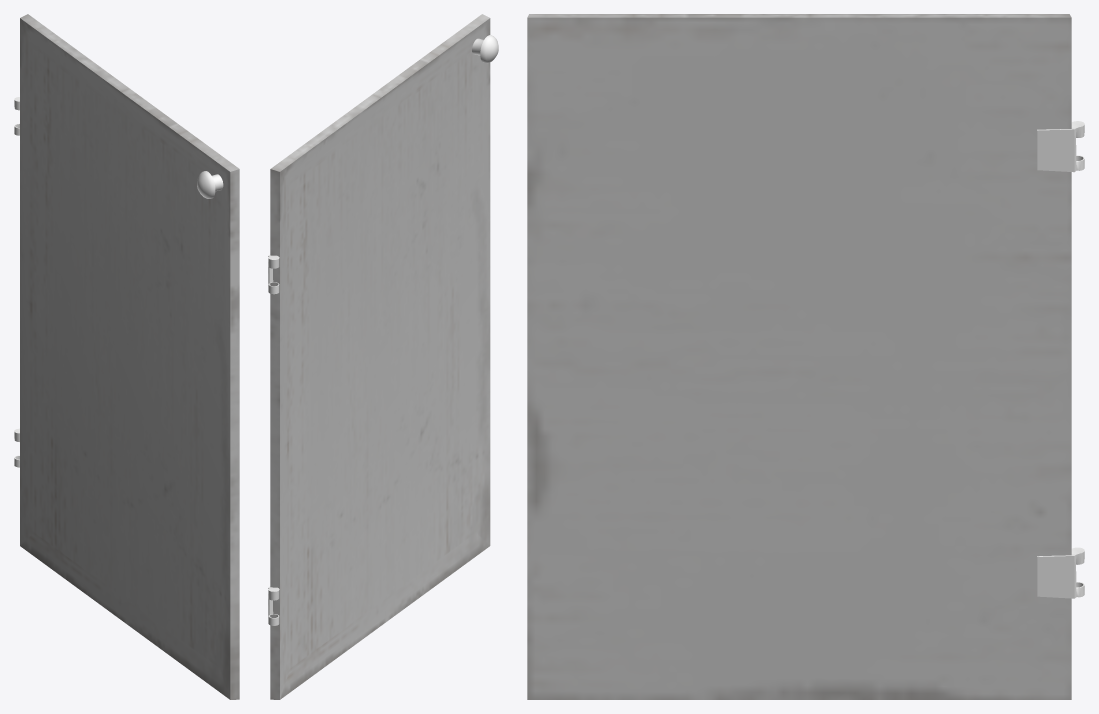
File: SM_BookShelf_A1_Door1.fbx
3 renders of one model, left to right at view 1: azimuth 30°, elevation 25°; view 2: azimuth 150°, elevation 25°; view 3: azimuth 270°, elevation 25°, orthographic. The views are drawn at different scales.
Parts seen in each view (by area): view 1: SM_BookShelf_A1_Door1; view 2: SM_BookShelf_A1_Door1; view 3: SM_BookShelf_A1_Door1.
Part boxes in pixels (<box>): SM_BookShelf_A1_Door1: <box>14,14,239,699</box>; SM_BookShelf_A1_Door1: <box>268,14,498,699</box>; SM_BookShelf_A1_Door1: <box>527,14,1084,699</box>.
Bounding box in the file's own units: 3.5 × 45.62 × 61.6.
Materials: 1 (1 with a texture image).
